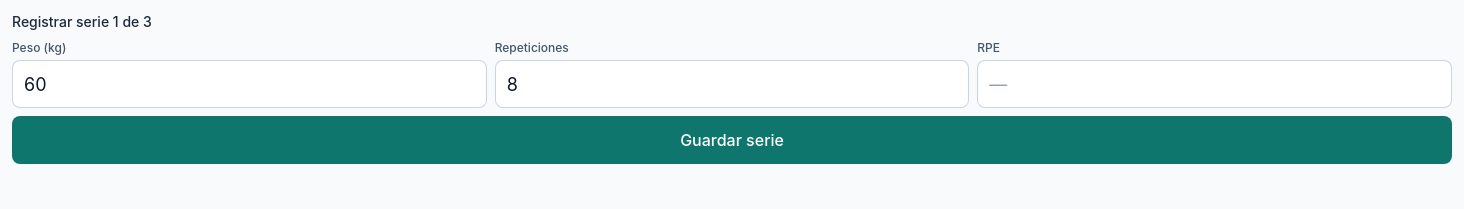
it: SetLogger › AC-004-11: rechaza pesos fuera de rango o que no son múltiplos de 0,25
The width and height of the screenshot is (1464, 209).
Replace the text in the number field labelled "Peso (kg)" with "60.1" at [249, 84], box x1=12 y1=60 x2=487 y2=108
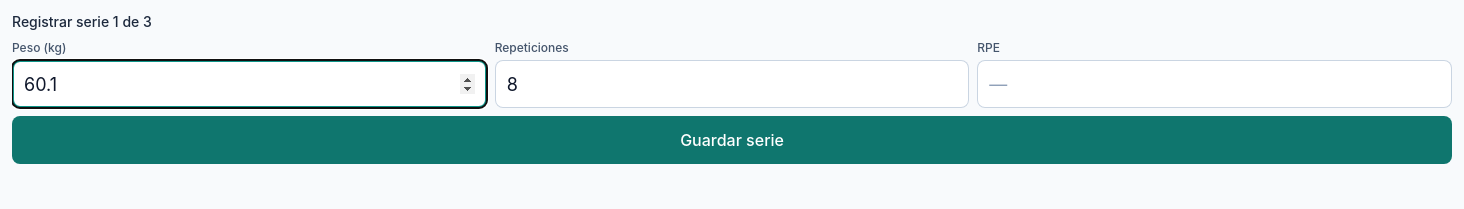
Click the button "Guardar serie".
click(732, 140)  # box x1=12 y1=116 x2=1452 y2=164
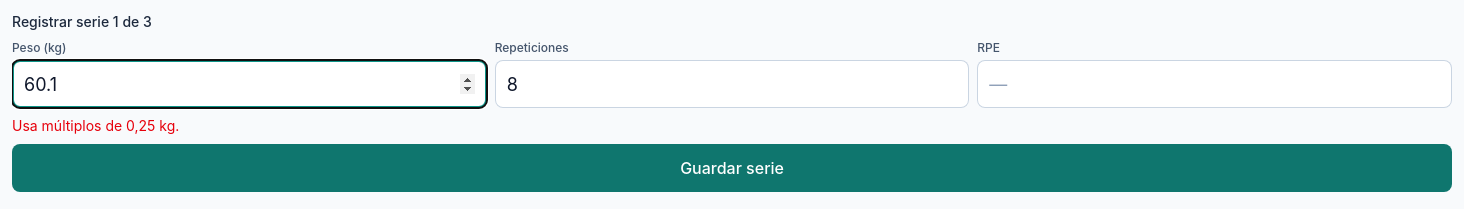
Now the text "Usa múltiplos de 0,25 kg." is shown, box x1=12 y1=117 x2=179 y2=134
